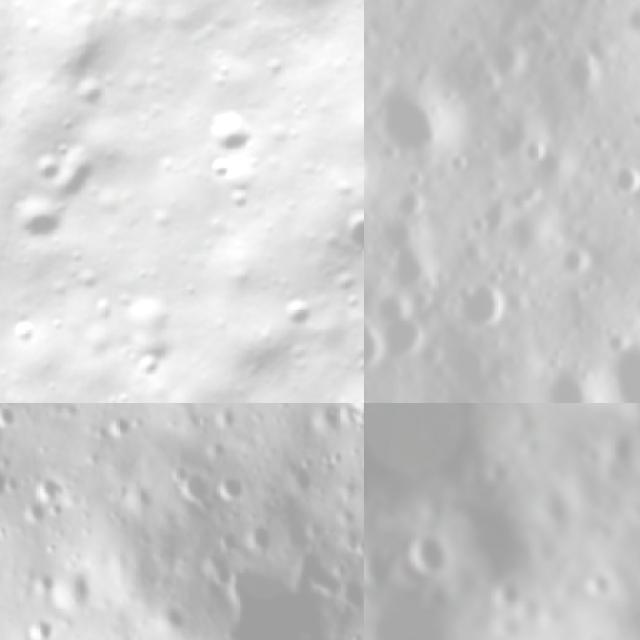crater: (364, 403, 546, 530), (364, 59, 473, 184), (214, 557, 340, 640), (434, 268, 526, 356), (34, 143, 116, 224), (0, 183, 68, 257), (267, 286, 332, 350), (118, 338, 182, 402), (202, 104, 263, 166), (16, 140, 74, 197), (382, 173, 442, 228), (481, 0, 570, 37), (546, 236, 606, 290), (320, 196, 364, 268), (62, 72, 118, 128), (398, 524, 452, 578), (44, 563, 96, 615), (597, 148, 640, 207), (1, 313, 52, 362), (512, 128, 564, 176), (170, 459, 216, 512), (569, 558, 624, 602), (364, 534, 401, 594), (621, 76, 640, 165), (32, 470, 75, 507), (215, 469, 248, 511), (609, 0, 640, 43), (248, 519, 276, 550), (21, 498, 45, 530), (213, 526, 237, 552), (0, 403, 18, 435), (0, 459, 12, 503), (630, 255, 640, 301)
